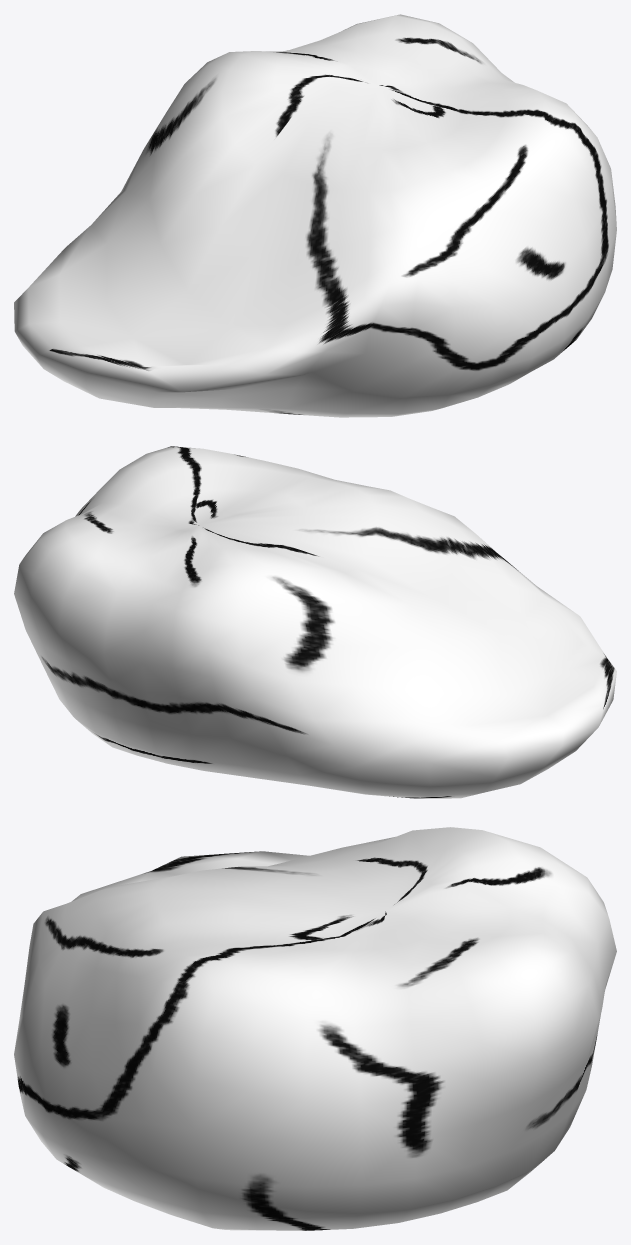
Rendered from rock2.obj.
3 views of the same model, one above another, from view 1: azimuth 30°, elevation 25°; view 2: azimuth 150°, elevation 25°; view 3: azimuth 270°, elevation 25° (orthographic). The views are drawn at different scales.
Parts seen in each view (by area): view 1: Sphere.001; view 2: Sphere.001; view 3: Sphere.001.
Part boxes in pixels (box(x1,y1,x2,y2)): Sphere.001: box(14, 14, 616, 417); Sphere.001: box(14, 446, 616, 798); Sphere.001: box(14, 827, 616, 1230).
Size of the model in its own units: 0.5094 by 0.2279 by 0.3934.
